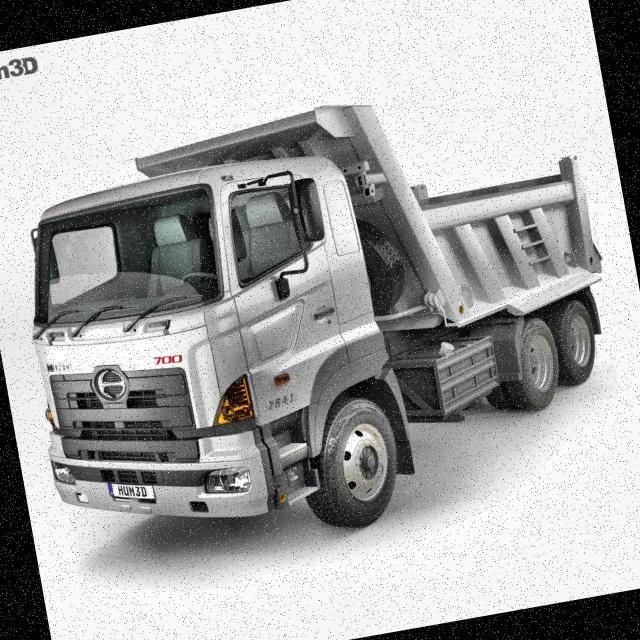dump_truck: (3, 57, 640, 580)
